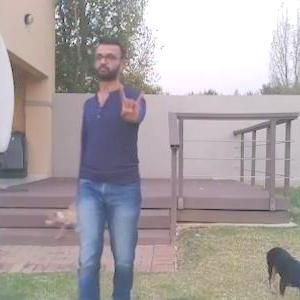takeoff-hand: (114, 82, 154, 122)
